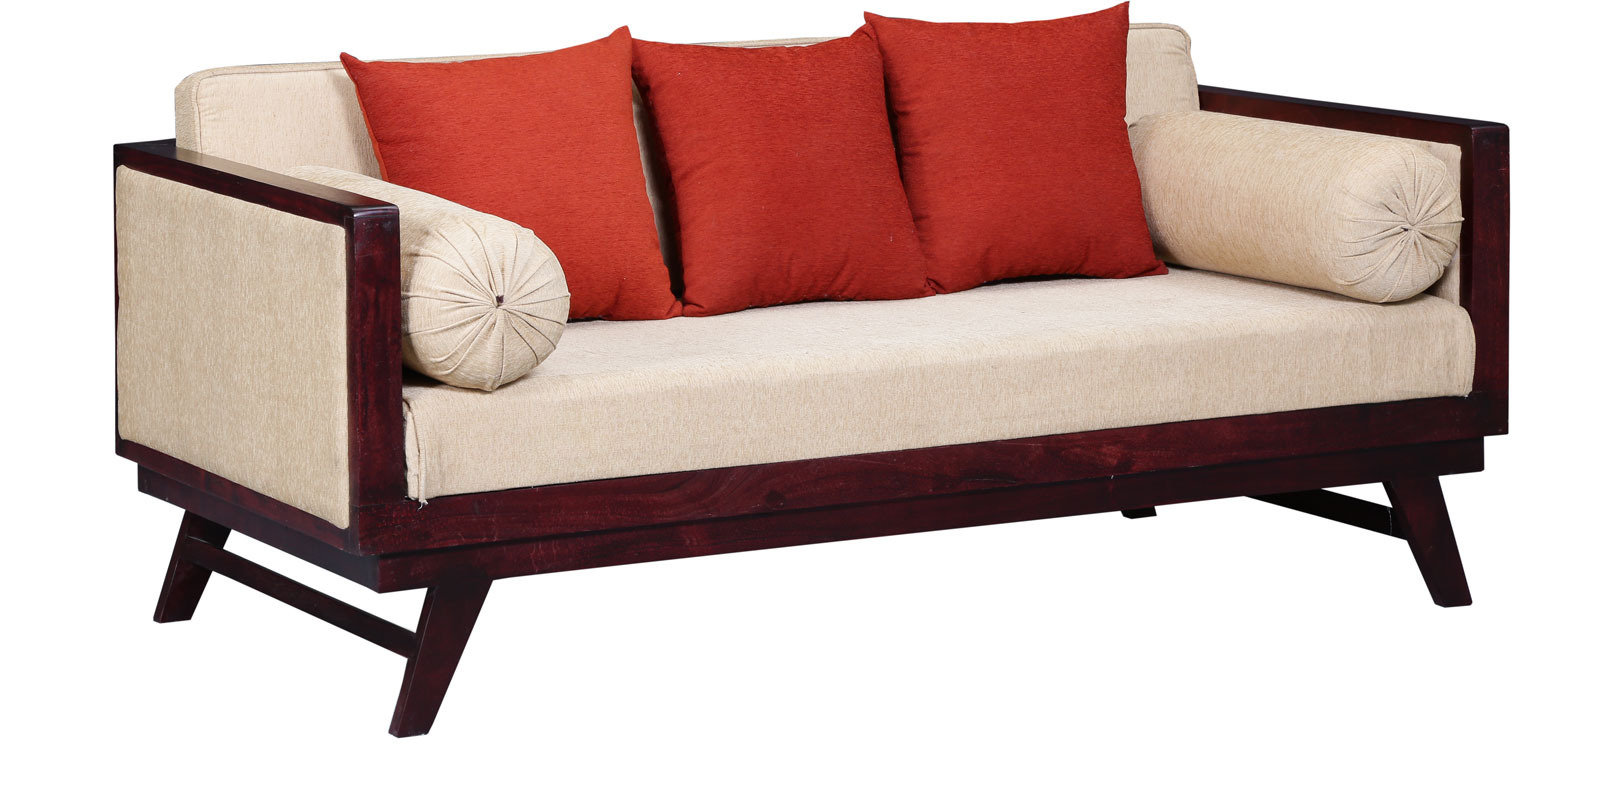Barnes Three Seater Sofa with Cushions in Passion Mahogany Finish by Woodsworth: (112, 12, 1530, 682)
